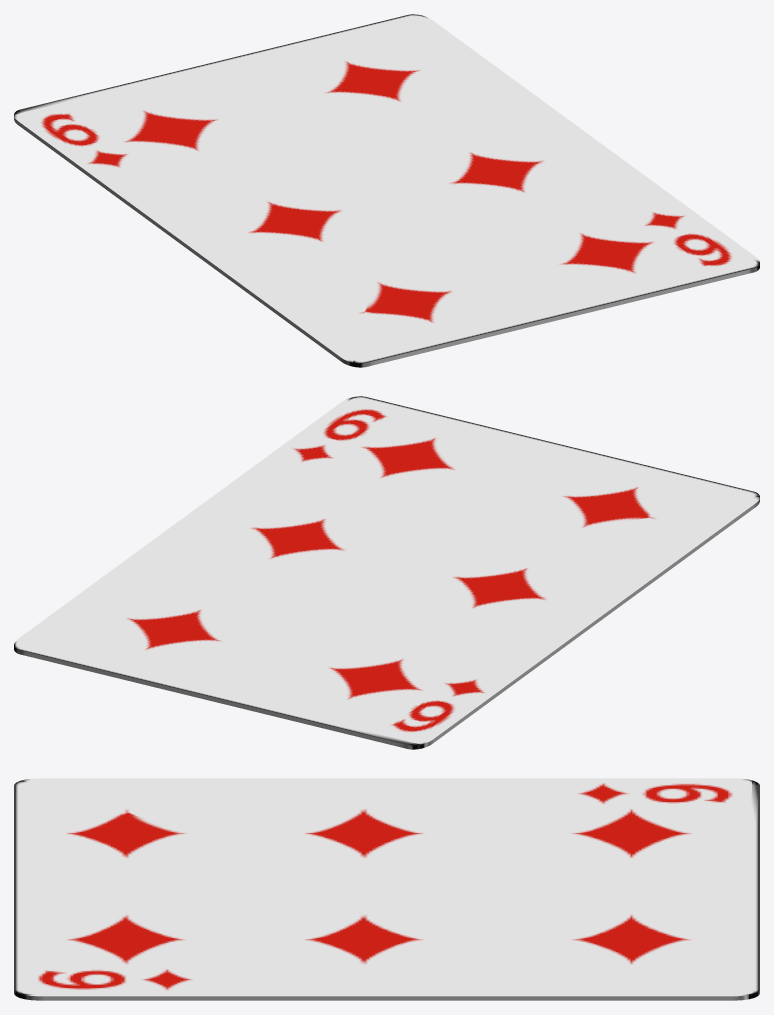
File: Diamond_6.fbx
3 views of the same model, one above another, from view 1: azimuth 30°, elevation 25°; view 2: azimuth 150°, elevation 25°; view 3: azimuth 270°, elevation 25° (orthographic). The views are drawn at different scales.
Parts seen in each view (by area): view 1: Card_Diamond; view 2: Card_Diamond; view 3: Card_Diamond.
Boxes of the visible parts, left/top/right/bottom form: Card_Diamond: left=14, top=14, right=759, bottom=367; Card_Diamond: left=14, top=396, right=759, bottom=749; Card_Diamond: left=14, top=778, right=759, bottom=1000.
Size of the model in its own units: 8.6 by 0.079 by 12.45.
